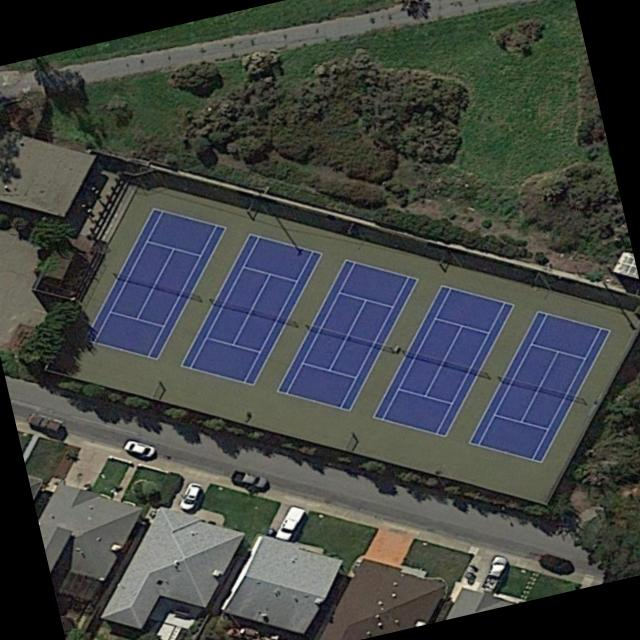small-vehicle: (274, 505, 306, 540), (479, 555, 510, 590), (24, 409, 64, 434), (534, 550, 574, 573), (229, 467, 267, 490), (177, 480, 202, 510), (123, 436, 156, 458)
